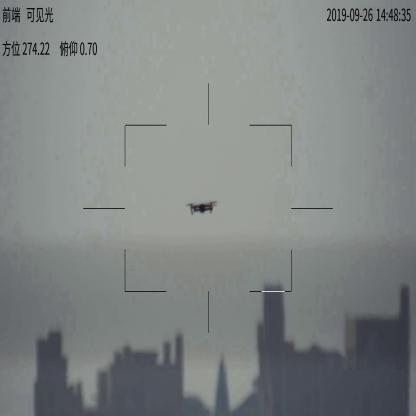uav: (186, 198, 218, 216)
